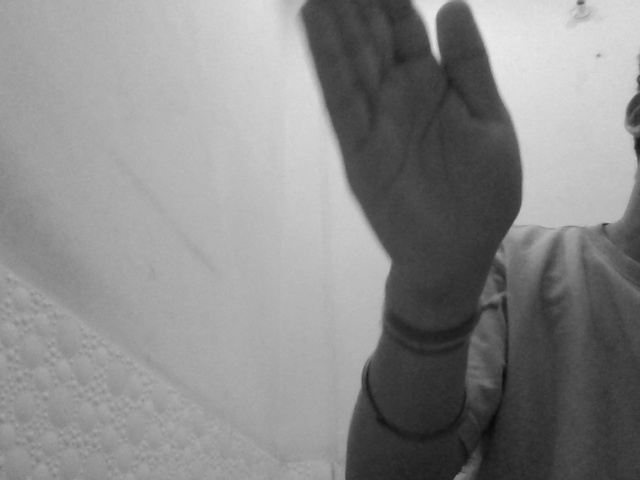Hello: (293, 1, 550, 268)
